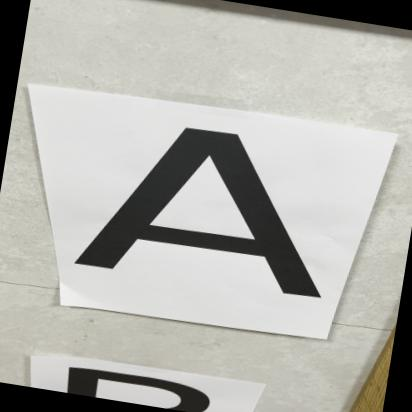seat: (52, 92, 356, 328)
